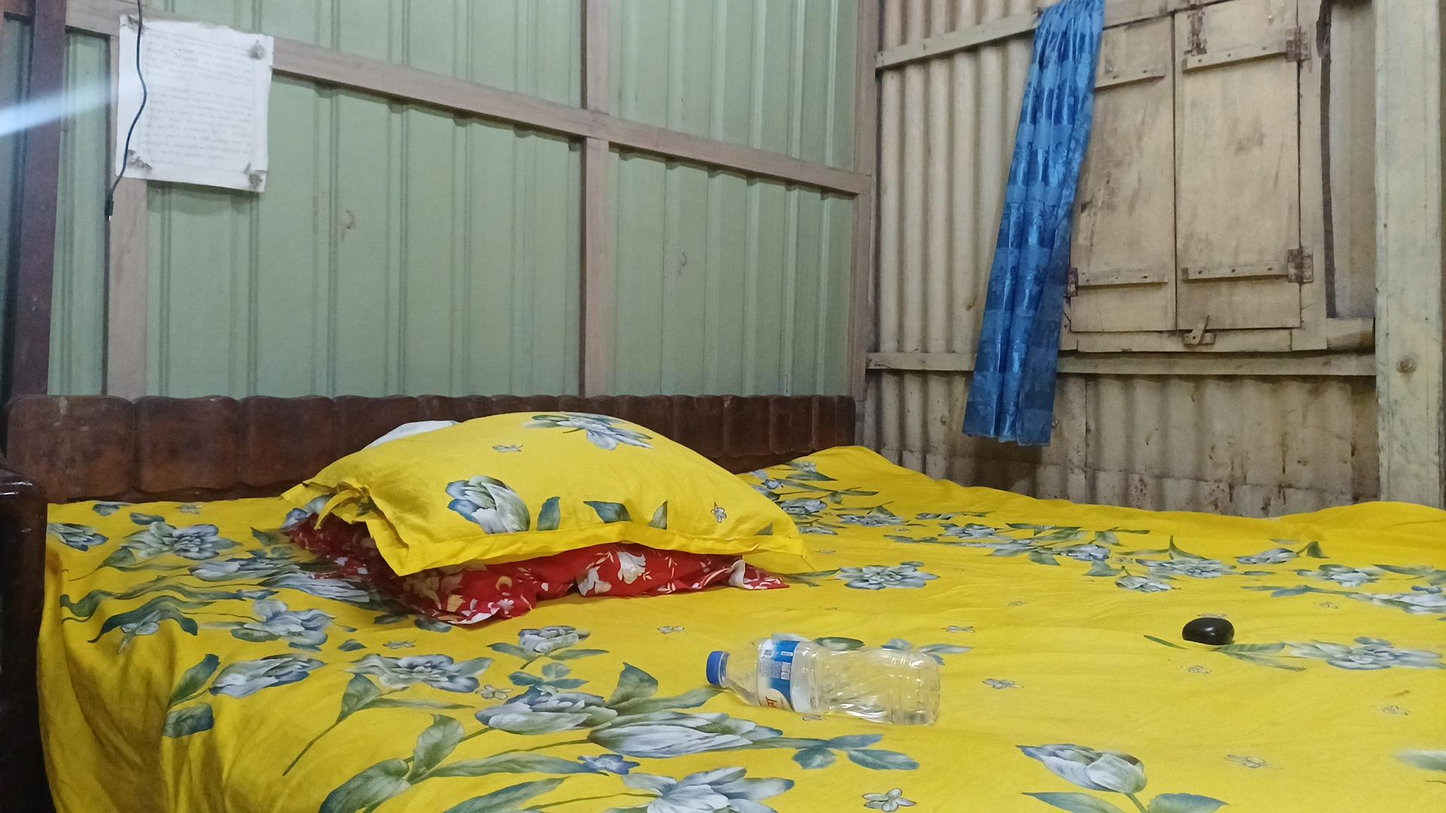Bottle: (678, 622, 952, 735)
Pillow: (285, 411, 834, 609)
Window: (1003, 13, 1336, 388)
